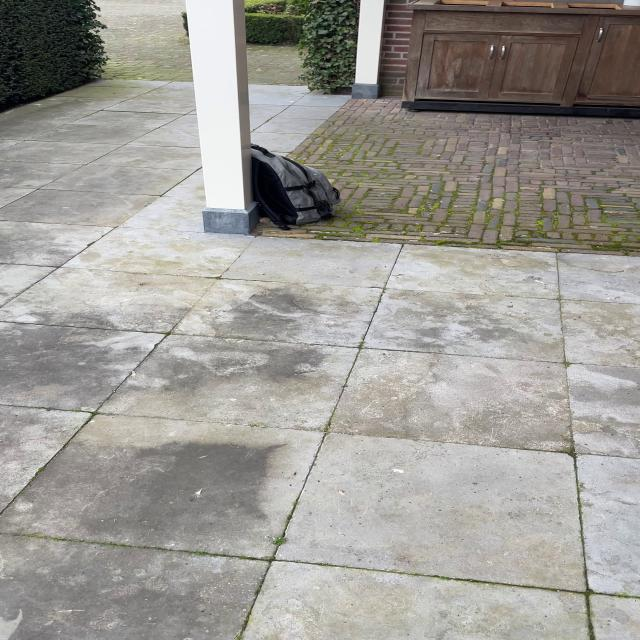backpack: (240, 142, 345, 232)
